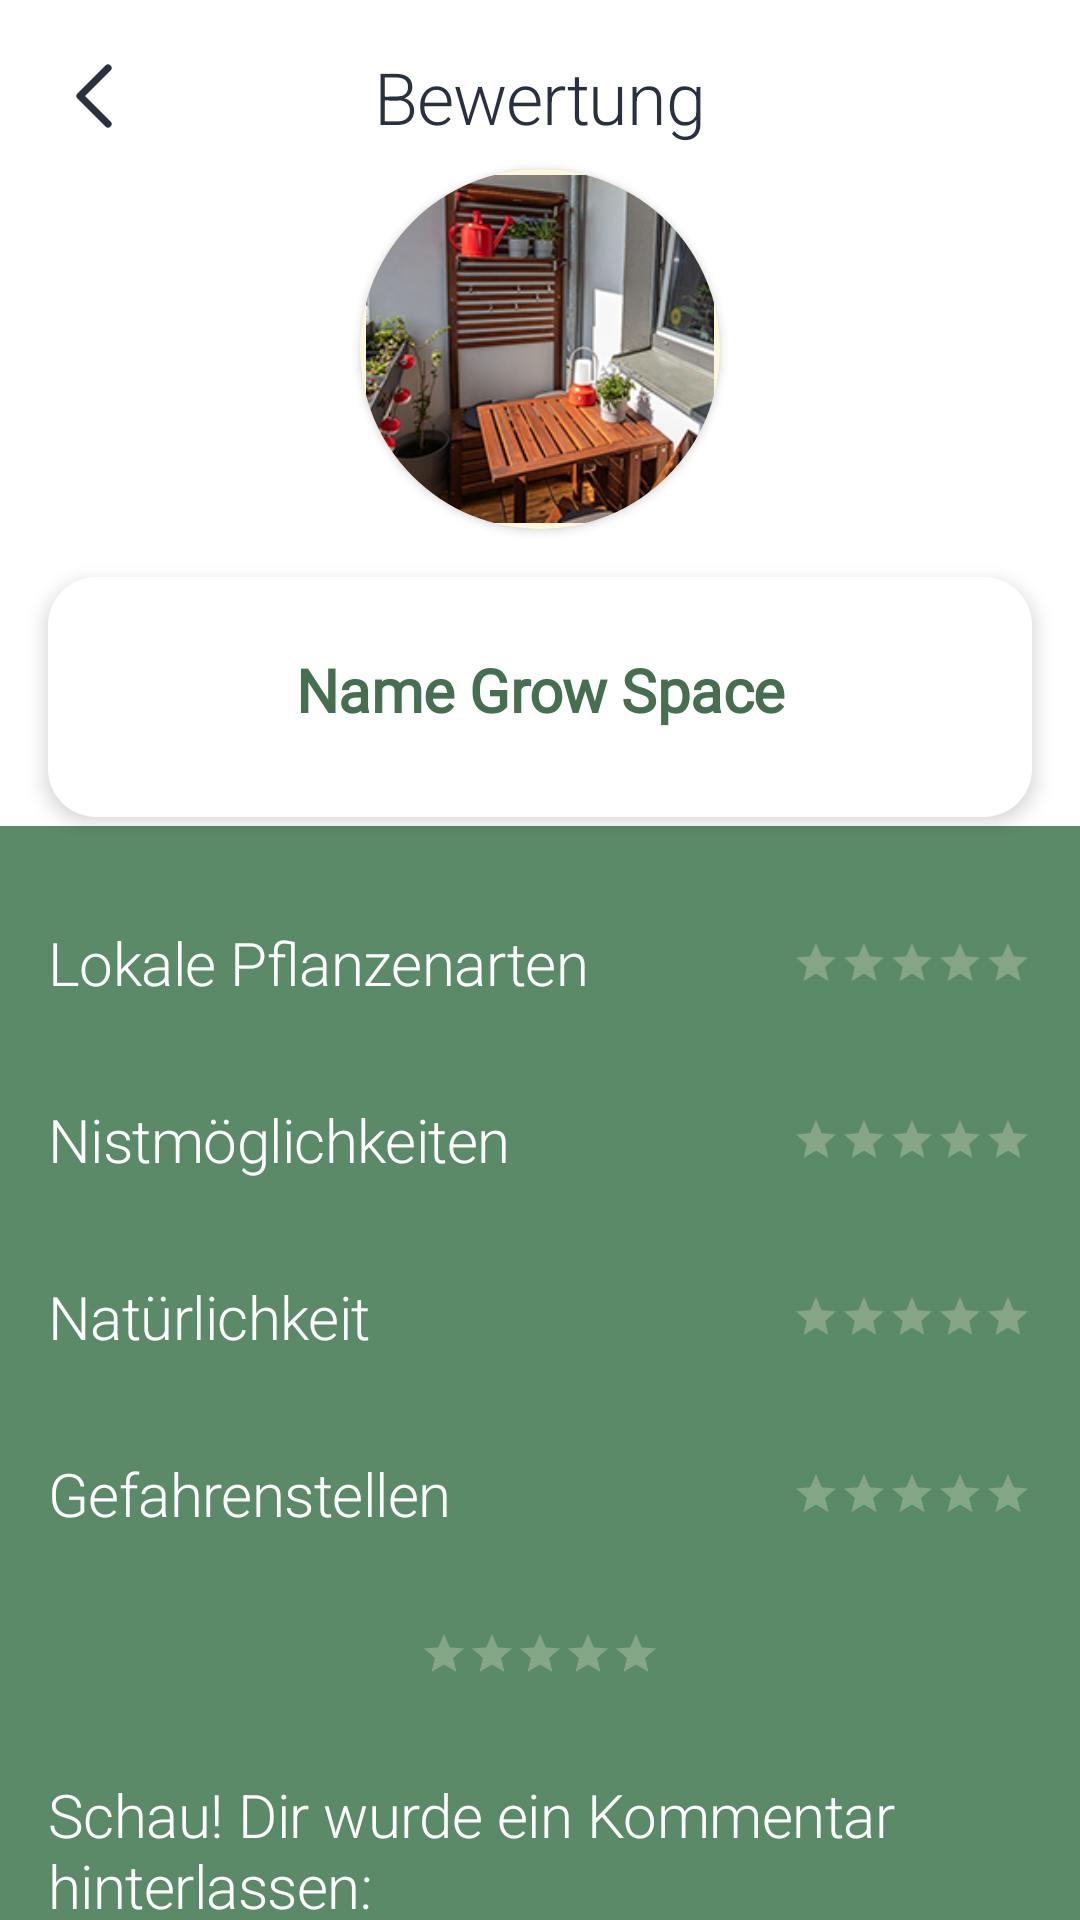

Screen size 1080×1920. Icon name, then its center in pixels as point (x, y):
left: point (94, 96)
mygs pic: point (540, 349)
